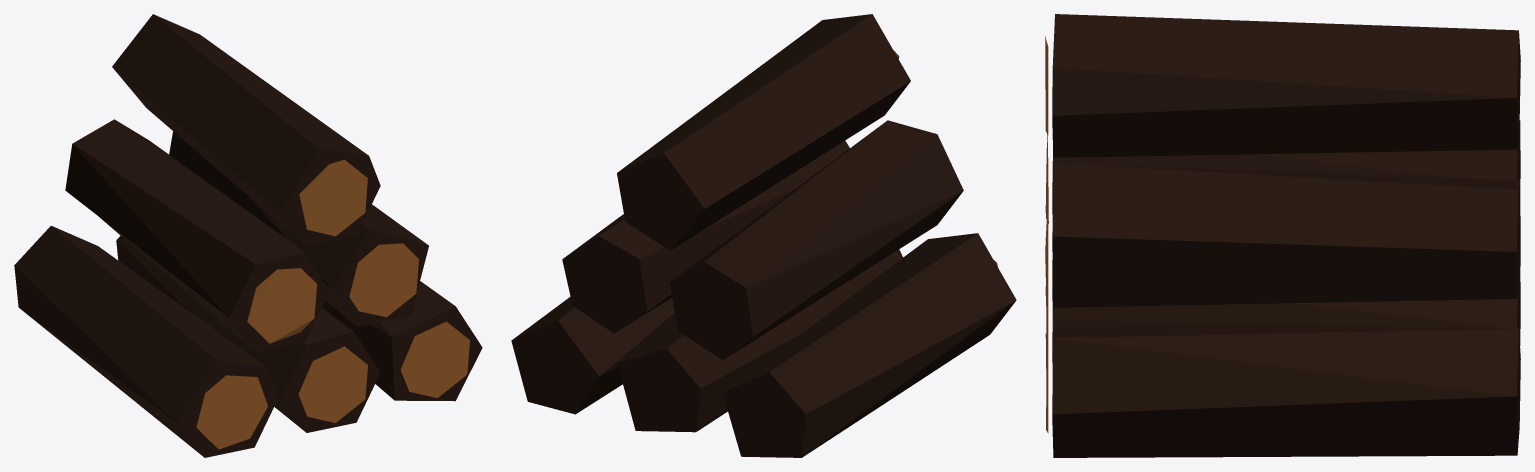
The model's file is Lenha_empilhada_LOD1.fbx.
The picture shows the model from 3 angles, left to right: view 1: azimuth 30°, elevation 25°; view 2: azimuth 150°, elevation 25°; view 3: azimuth 270°, elevation 25°; orthographic projection. The views are drawn at different scales.
Parts seen in each view (by area): view 1: Lenha_empilhada_LOD1; view 2: Lenha_empilhada_LOD1; view 3: Lenha_empilhada_LOD1.
Boxes of the visible parts, bbox=[...] form: Lenha_empilhada_LOD1: bbox=[14, 14, 482, 457]; Lenha_empilhada_LOD1: bbox=[511, 14, 1016, 457]; Lenha_empilhada_LOD1: bbox=[1045, 14, 1520, 457].
Size of the model in its own units: 120 by 107 by 128.
Materials: 1 (1 with a texture image).
